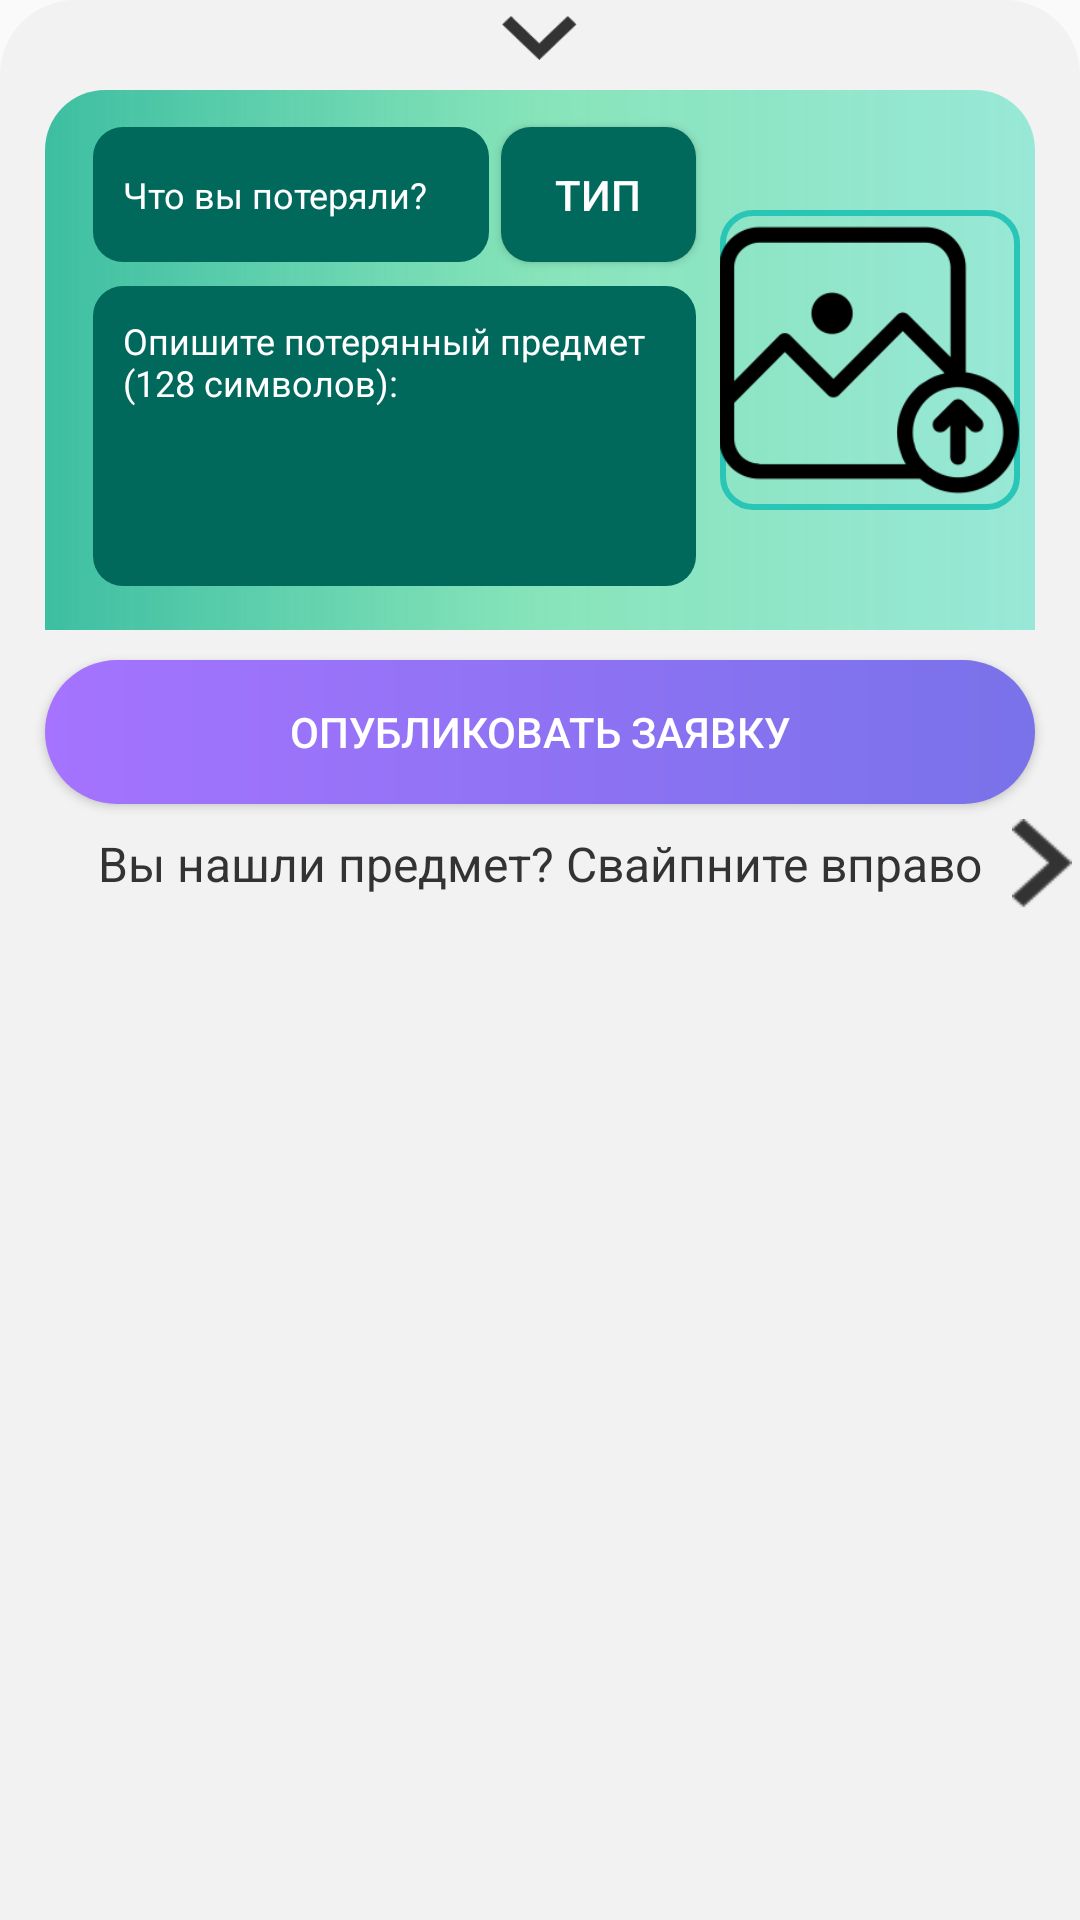

Point at icon controls on the screen. Image size 1080 × 1920, points as [x,y].
down arrow: [539,38]
right arrow: [1042,863]
